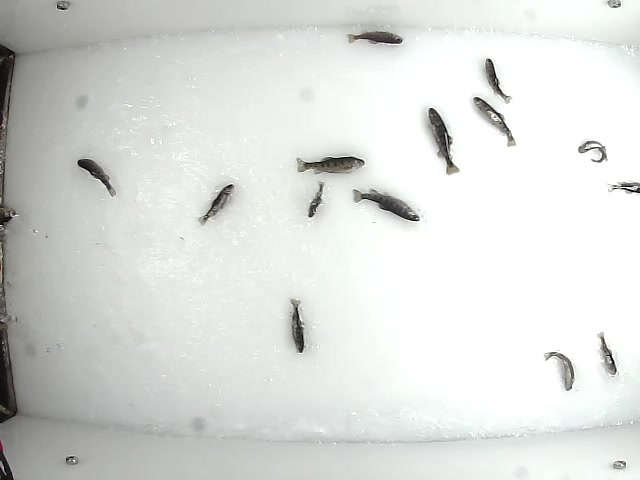fish: (348, 187, 424, 226), (425, 104, 461, 177), (470, 95, 518, 149), (197, 181, 236, 229), (293, 152, 367, 177), (74, 157, 117, 198), (483, 56, 515, 105), (543, 348, 575, 392), (288, 292, 307, 355), (345, 28, 404, 48), (595, 330, 618, 378), (304, 177, 327, 219), (578, 138, 610, 164)
